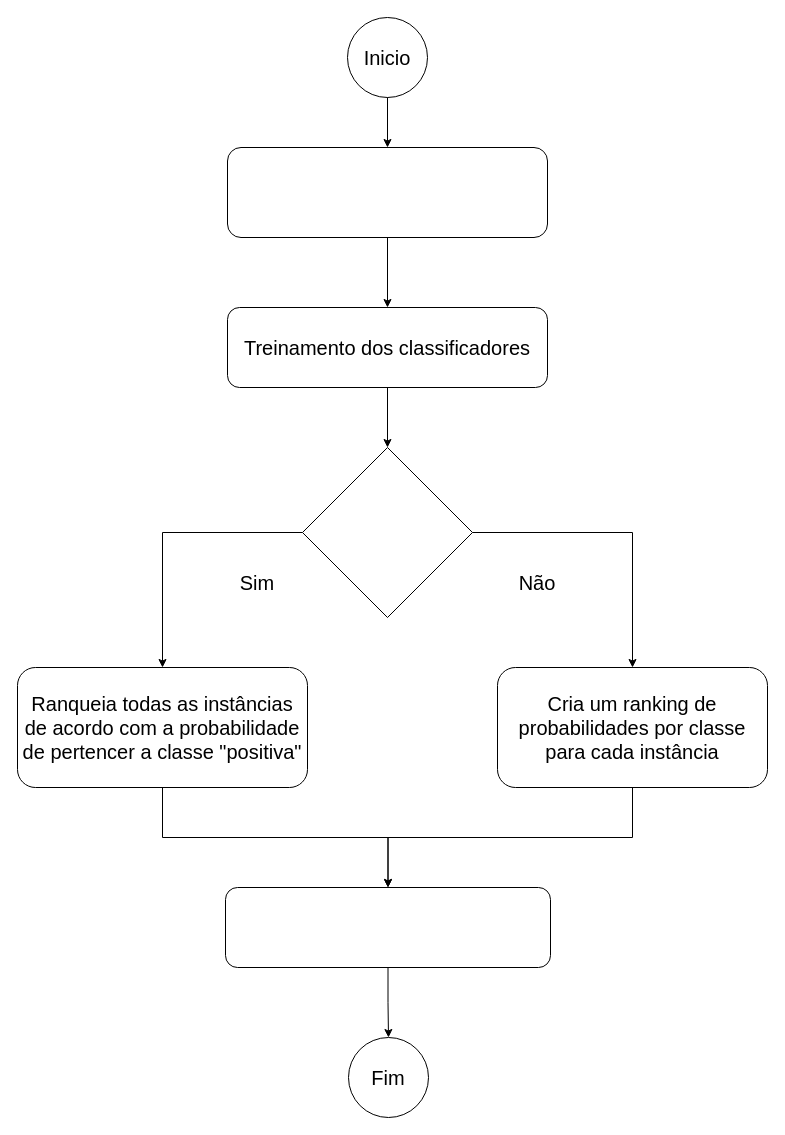
Some shapes in this 785 by 1135 pixel diagram are drawn without their labels. The centre of each missing label's shape, as x and y in pixels:
Aplica função de escolha social: the point at 387,927
Dados binários?: the point at 387,532
Definição de subconjuntos "Rotulado" e "Não Rotulado" do conjunto de dados: the point at 387,192
